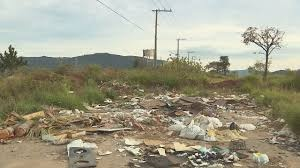rubble: (18, 94, 272, 167)
